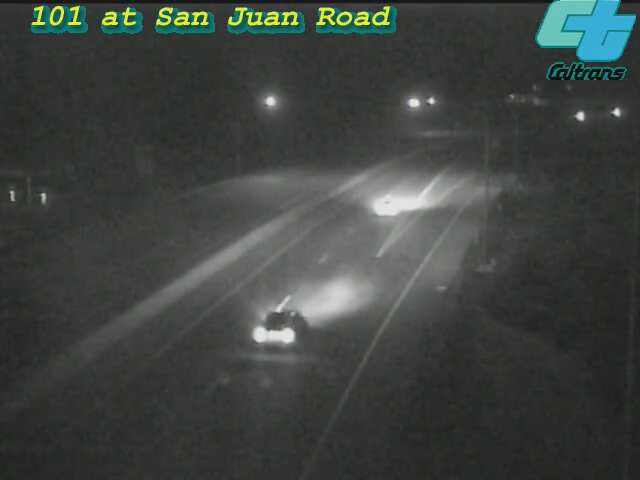vehicle: (224, 269, 334, 379), (348, 166, 428, 246), (554, 91, 604, 141), (590, 87, 640, 137)
